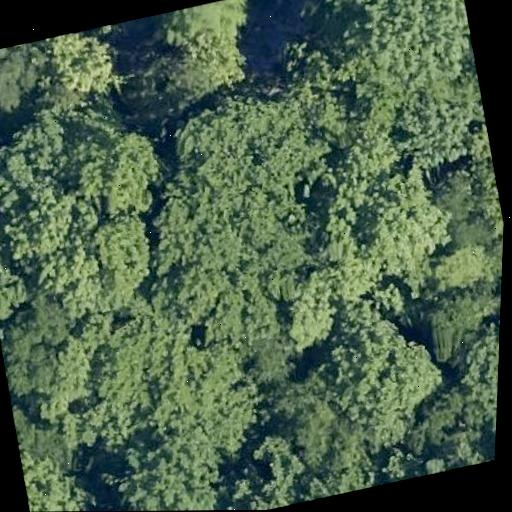tree-top: (146, 177, 327, 349), (300, 312, 453, 465), (288, 0, 480, 113), (311, 158, 460, 300), (134, 0, 270, 119), (57, 116, 187, 229), (91, 423, 230, 511), (31, 21, 138, 110), (388, 84, 486, 172), (442, 284, 501, 430), (0, 291, 83, 394), (220, 424, 309, 510), (454, 117, 508, 246), (16, 433, 100, 512), (394, 422, 496, 480), (300, 441, 390, 500), (0, 40, 52, 125)
